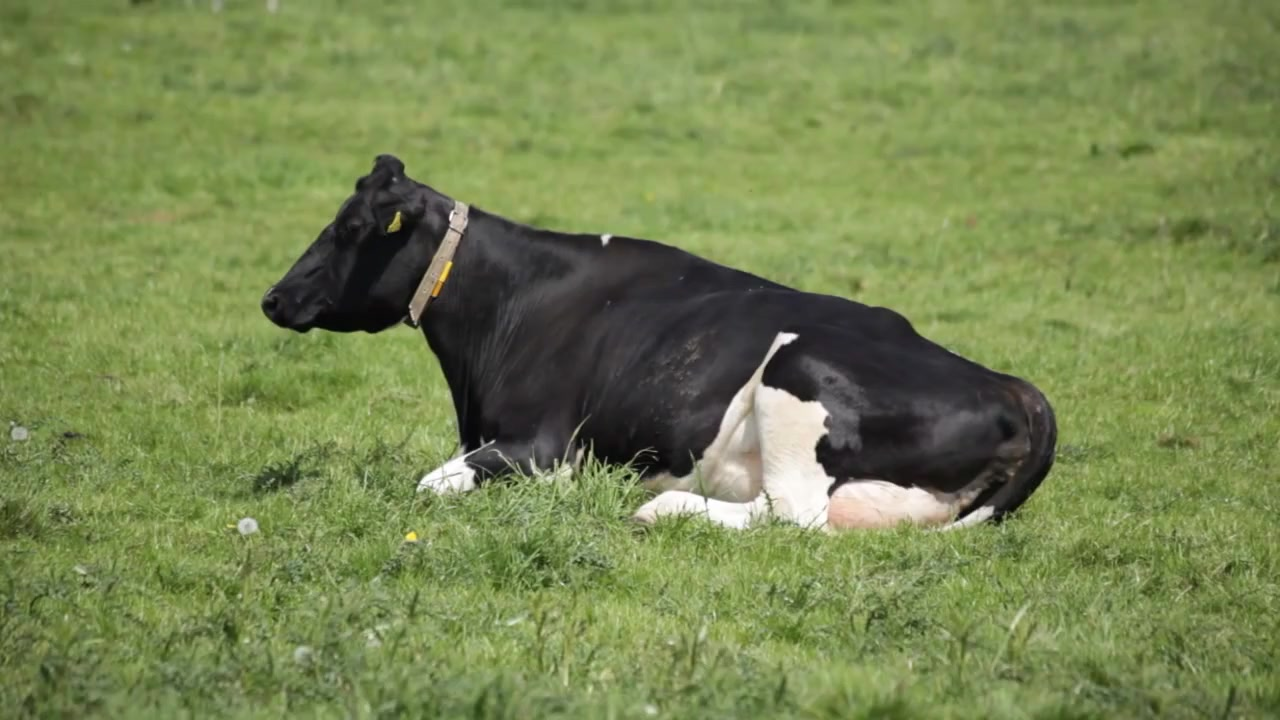cow: (263, 146, 1059, 539)
